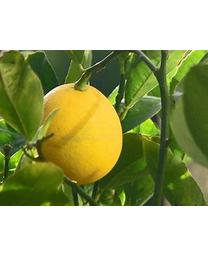lemon: (35, 84, 123, 187)
